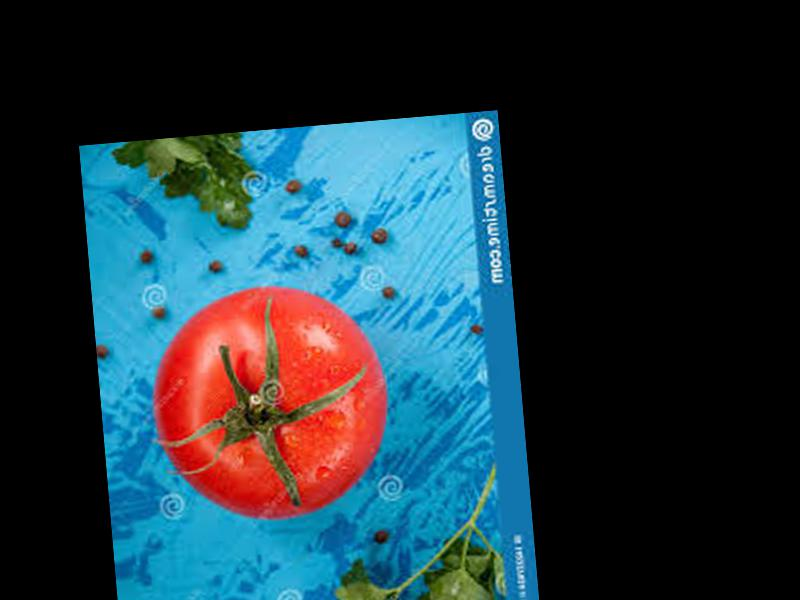Tomato: (145, 277, 396, 529)
